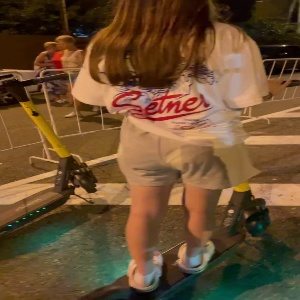human on a scooter: (72, 1, 300, 300)
